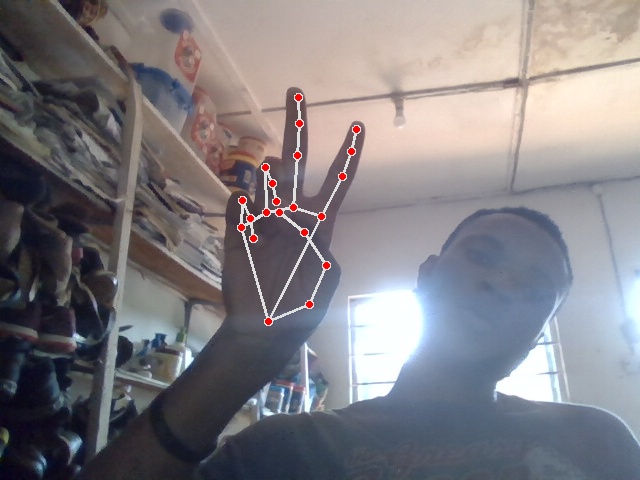peace: (223, 87, 366, 342)
